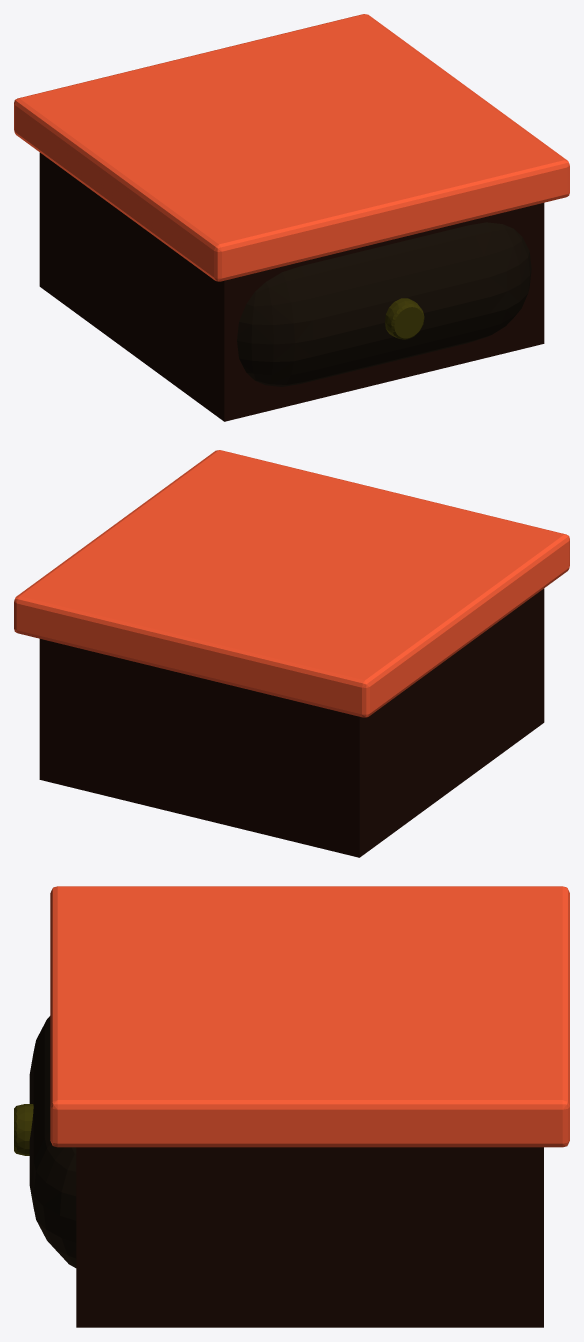
Rendered from Basic_Cabinet.FBX.
3 views of the same model, one above another, from view 1: azimuth 30°, elevation 25°; view 2: azimuth 150°, elevation 25°; view 3: azimuth 270°, elevation 25° (orthographic). The views are drawn at different scales.
Visible parts, largest first — view 1: Basic_Cabinet; view 2: Basic_Cabinet; view 3: Basic_Cabinet.
Boxes of the visible parts, box(x1,y1,x2,y2) form: Basic_Cabinet: box(14, 14, 569, 421); Basic_Cabinet: box(14, 450, 569, 857); Basic_Cabinet: box(14, 886, 569, 1327).
Bounding box in the file's own units: 100 × 107 × 50.
